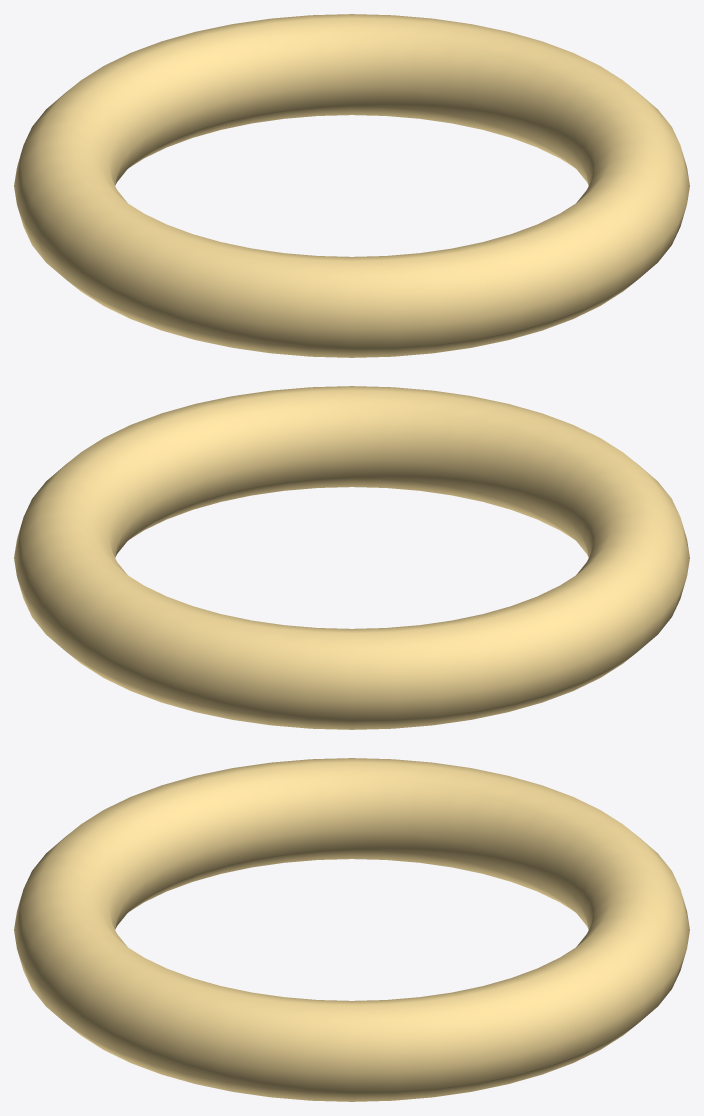
Rendered from seamless-hoop-gold585-8mm-16g.glb.
3 renders of one model, top to bottom at view 1: azimuth 30°, elevation 25°; view 2: azimuth 150°, elevation 25°; view 3: azimuth 270°, elevation 25°, orthographic.
Parts seen in each view (by area): view 1: seamless_hoop; view 2: seamless_hoop; view 3: seamless_hoop.
Boxes of the visible parts, x1,y1,x2,y2 form: seamless_hoop: (14,14,689,357); seamless_hoop: (14,386,689,729); seamless_hoop: (14,758,689,1101).
Bounding box in the file's own units: 0.008 × 0.0012 × 0.008.
